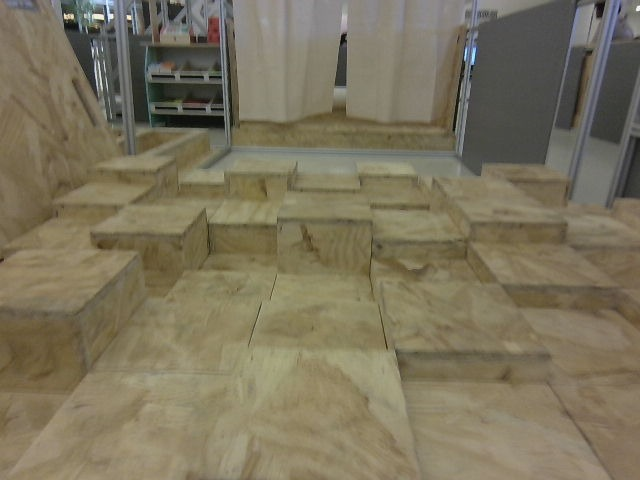curtain: (230, 0, 461, 130)
